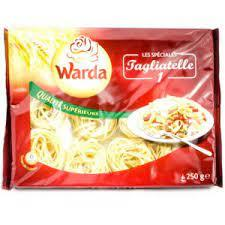Tagliatelle: (3, 27, 222, 188)
